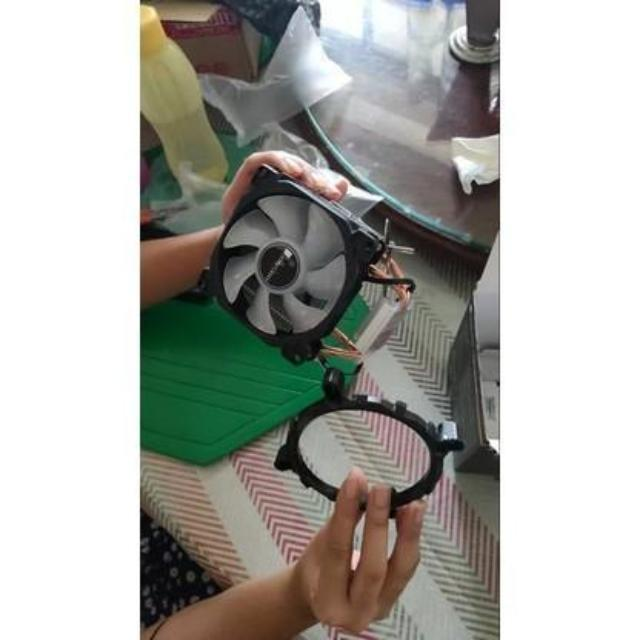CPU_Fan: (193, 160, 422, 368)
